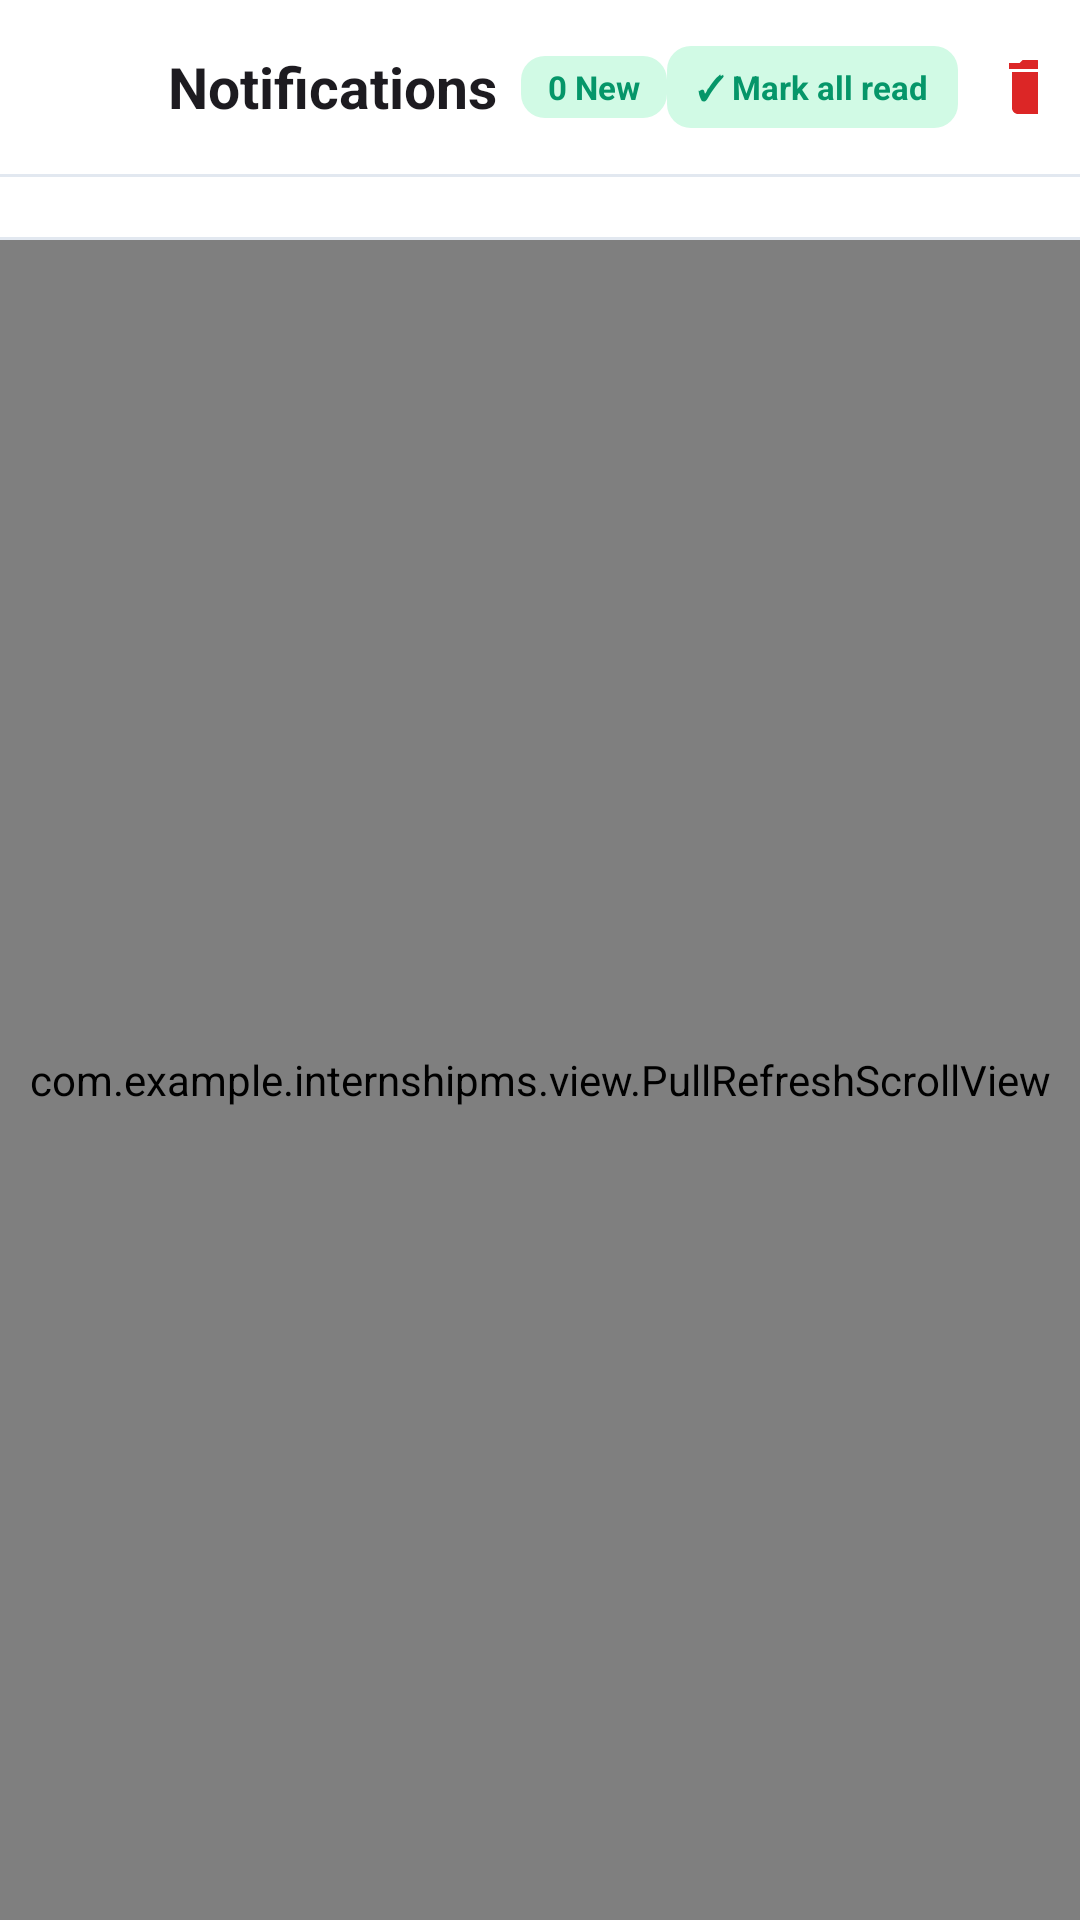

Icons on this 1080 x 1920 Android screen, each with its box as [left=x1, top=y1, right=x2, bottom=y2]:
Clear all: [left=1009, top=60, right=1038, bottom=114]
